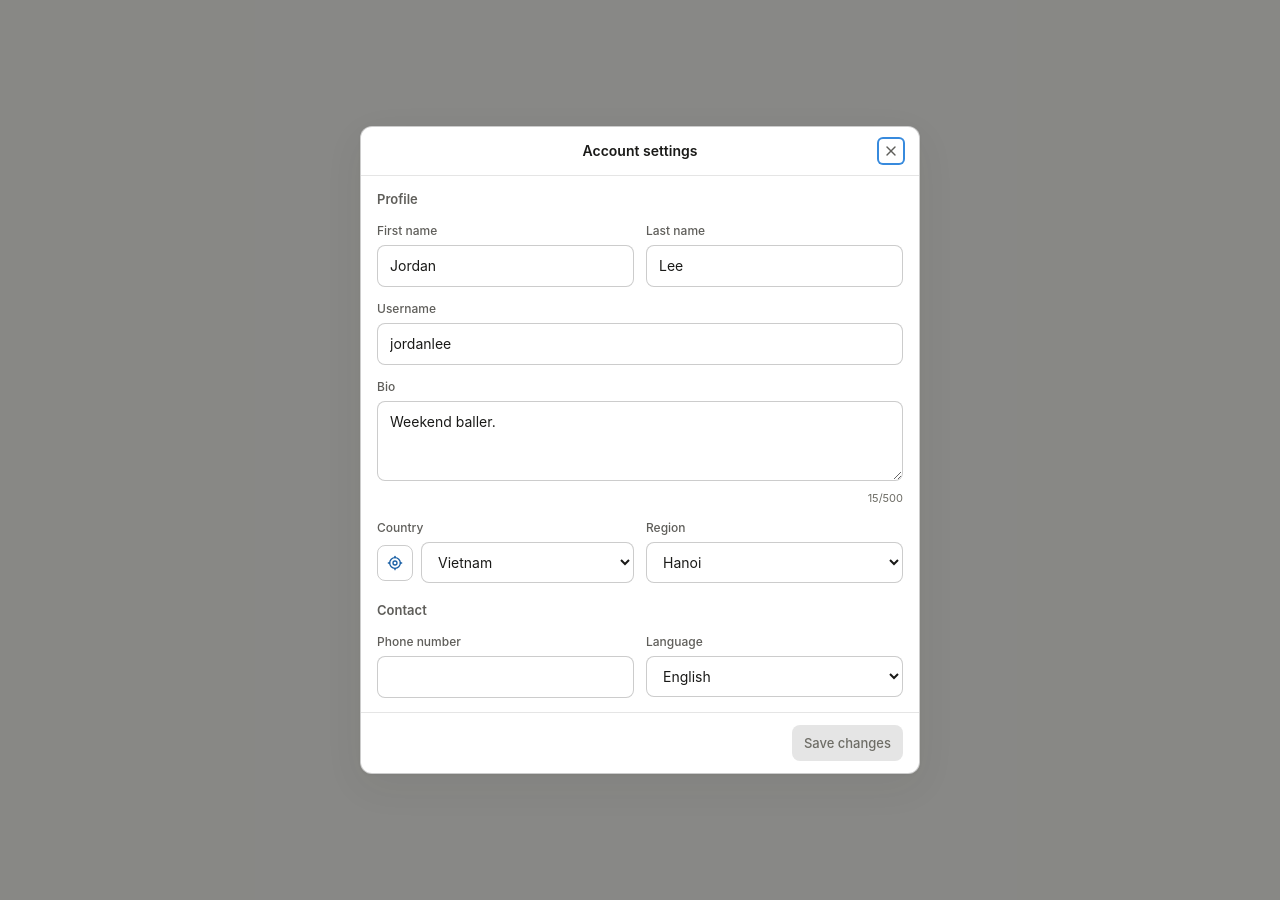
it: AccountSettingsModal · unsaved-changes guard (ACCOUNT-5) › asks first when closing with edits, and Close/Esc do not close the modal
Type " Edited" into the text box labelled "Bio". click: (640, 441)
box: 377,401 -> 903,481
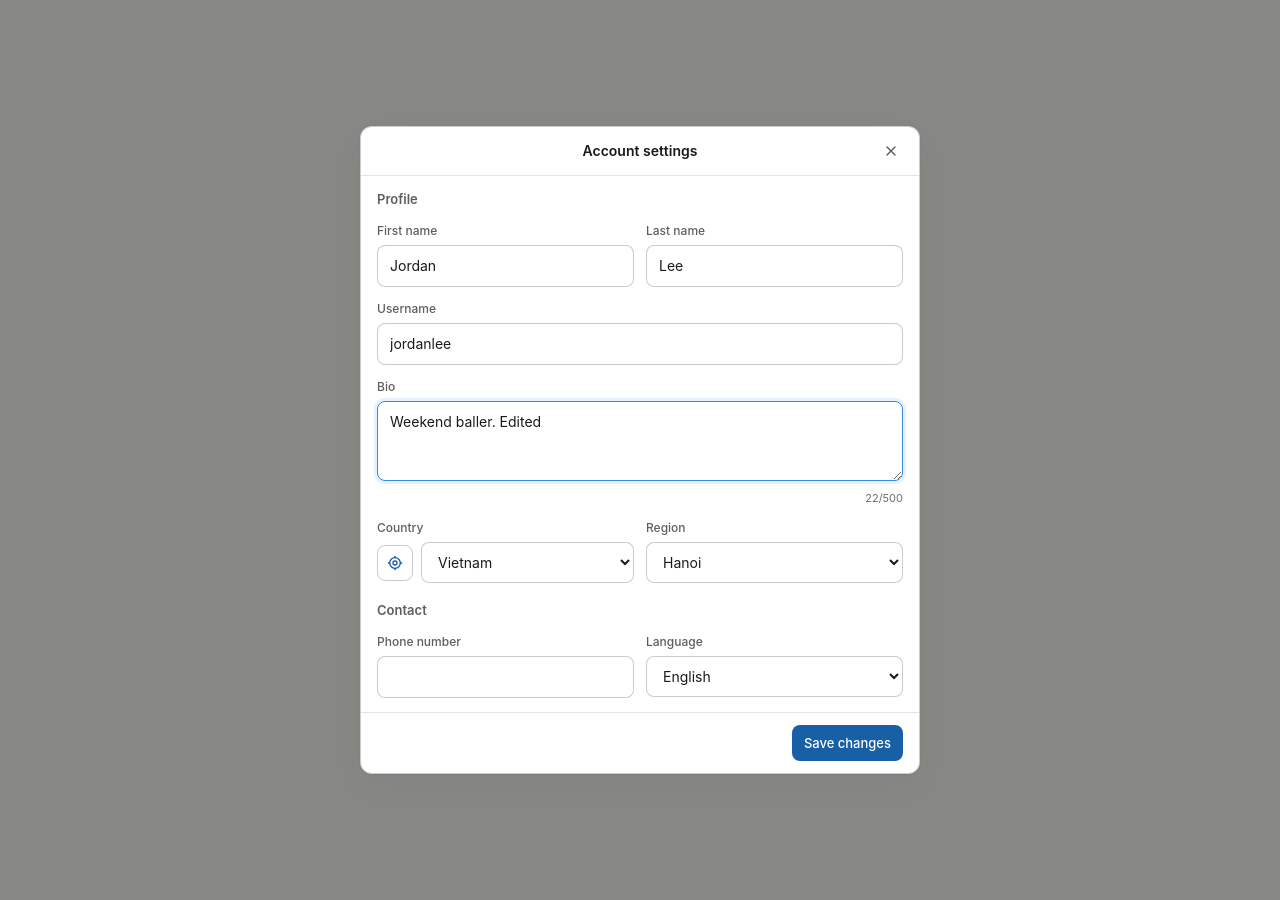
Click the button named "Close". click: (891, 151)
box: 879,139 -> 903,163
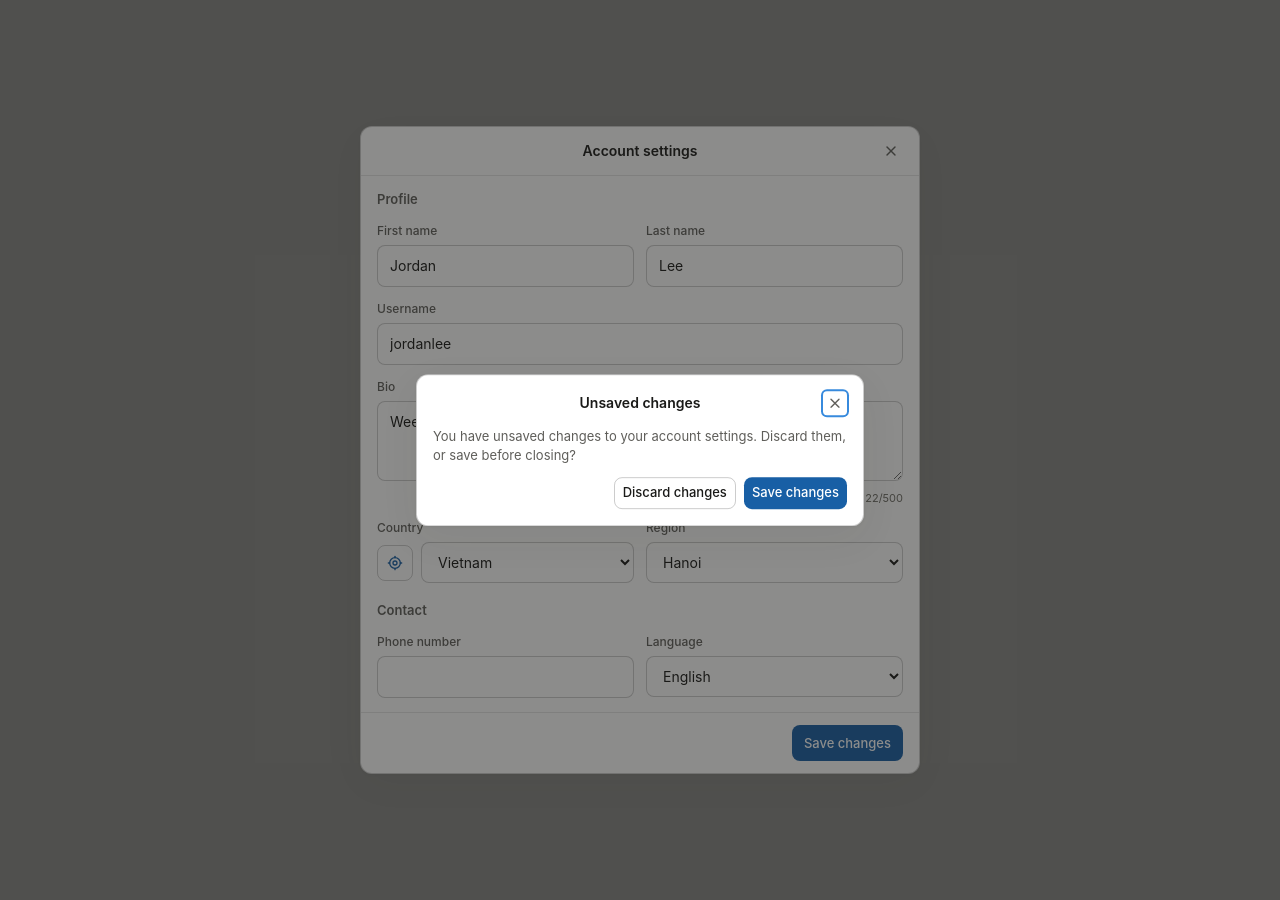
Expected: the dialog "Unsaved changes" is shown, 416,374 -> 864,526
